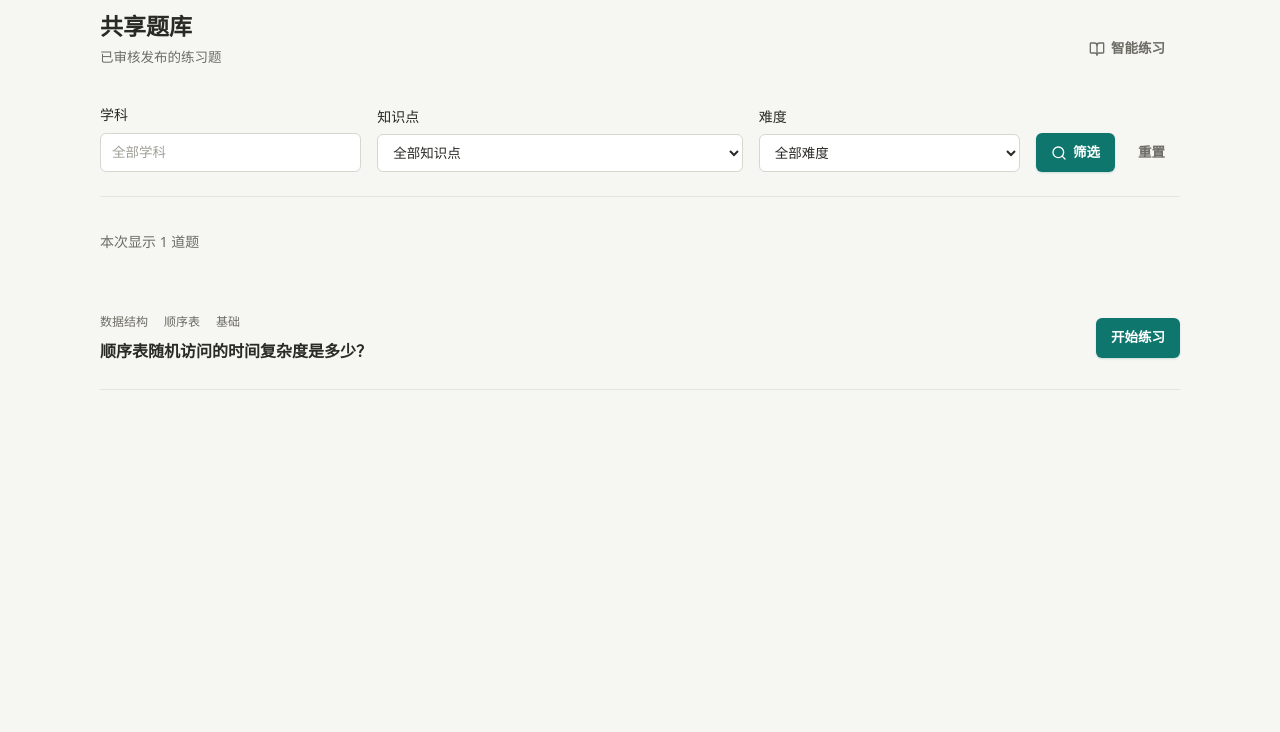
Scenario: 用户共享题库 › 作答请求失败保留重试且不伪造成功
Click the button with id "bank-start-31" at (1138, 338), box [1096, 318, 1180, 358]
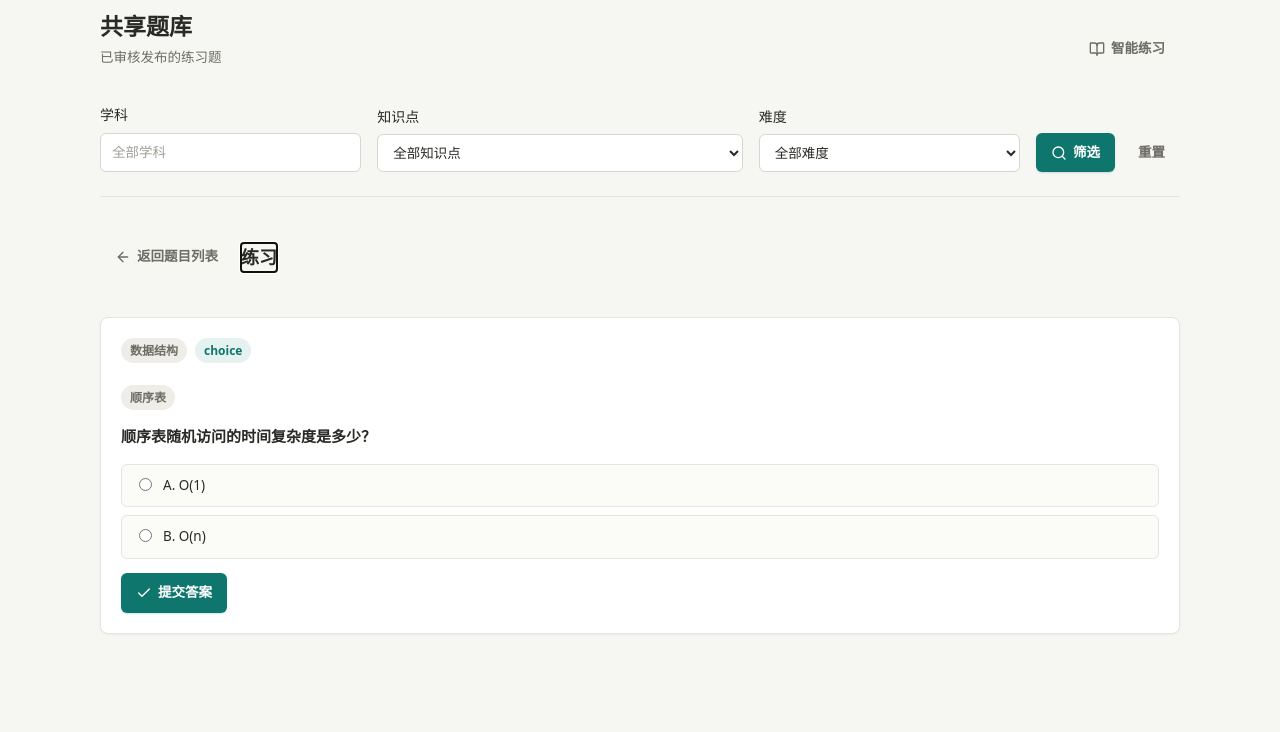
Click the radio button labelled "A. O(1)" at (146, 484), box [139, 478, 152, 491]
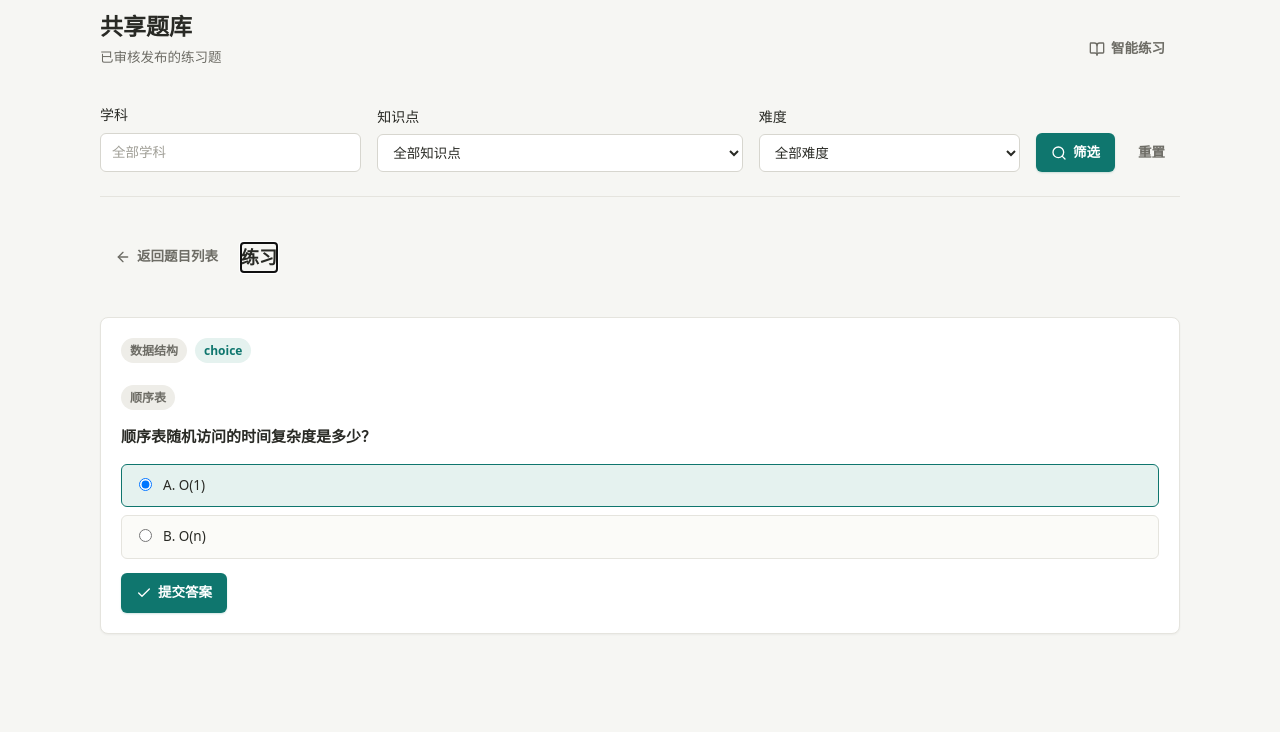
Click the button "提交答案" at (174, 593), box [121, 573, 227, 613]
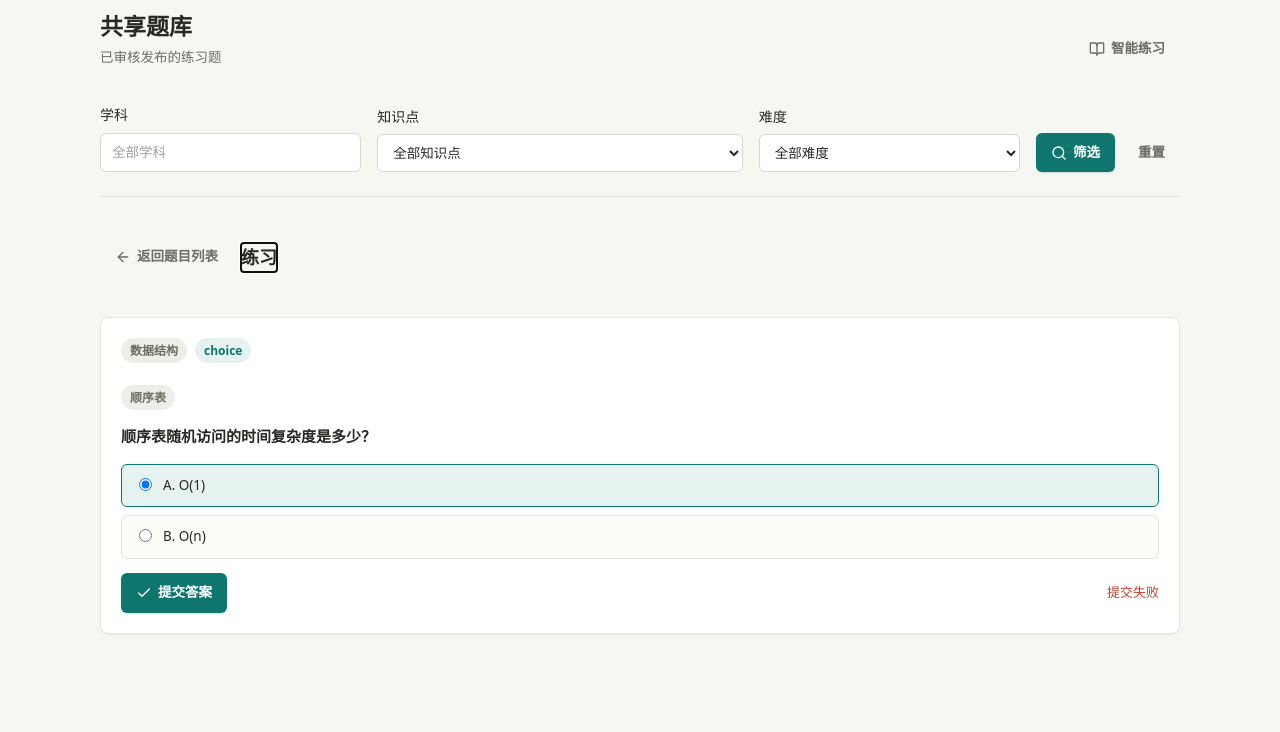
Check: the text "提交失败" is shown, box [1107, 582, 1159, 603]
